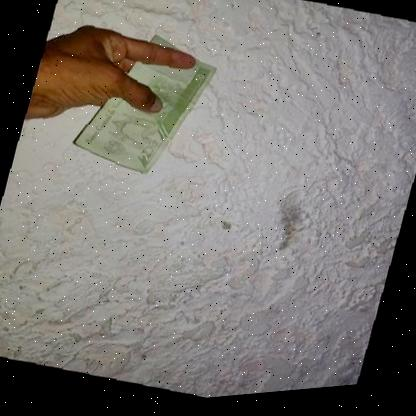fifty-back-vef: (68, 17, 222, 195)
